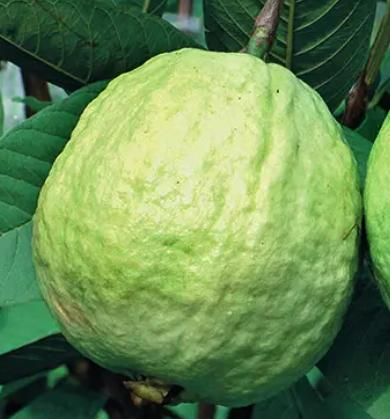guava_B: (31, 48, 364, 407)
